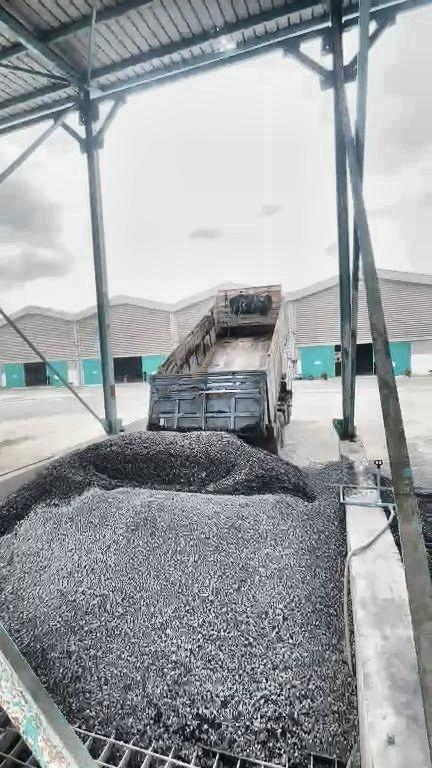gravel: (1, 454, 360, 765), (1, 432, 315, 534), (147, 419, 263, 437), (418, 489, 432, 579)
